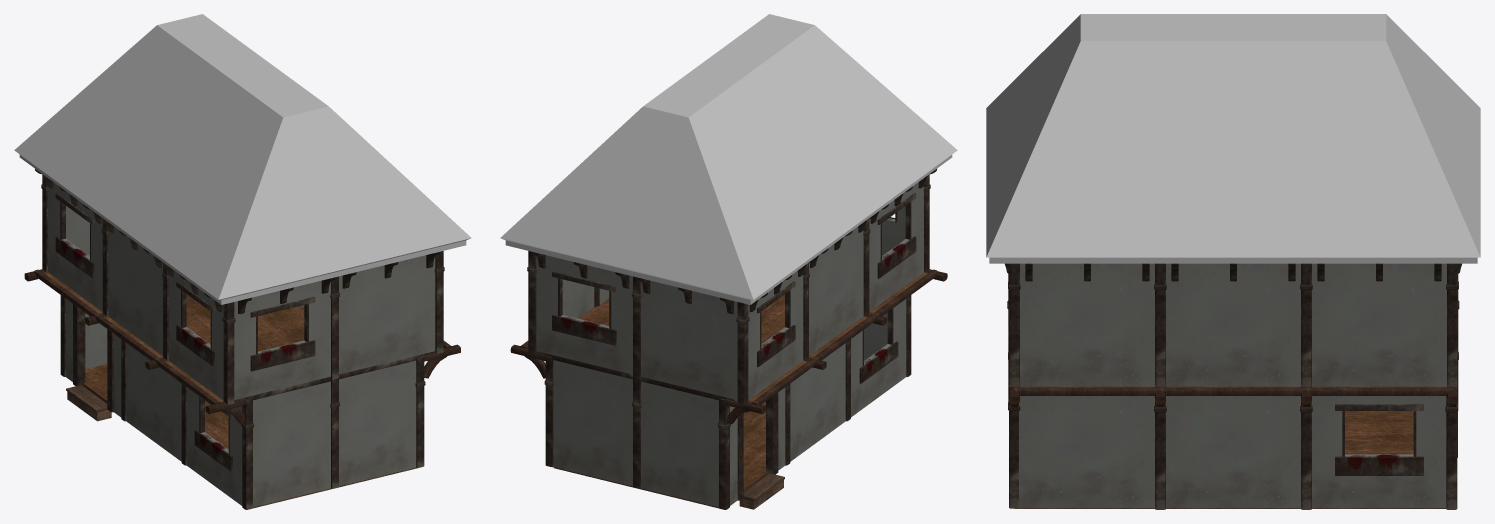
The model's file is House_Rich.fbx.
3 renders of one model, left to right at view 1: azimuth 30°, elevation 25°; view 2: azimuth 150°, elevation 25°; view 3: azimuth 270°, elevation 25°, orthographic. The views are drawn at different scales.
Visible parts, largest first — view 1: House_Rich; view 2: House_Rich; view 3: House_Rich.
Part boxes in pixels (x1,y1,x2,y2): House_Rich: [14, 14, 471, 509]; House_Rich: [500, 14, 957, 509]; House_Rich: [986, 14, 1480, 509].
Size of the model in its own units: 485 by 666 by 677.
